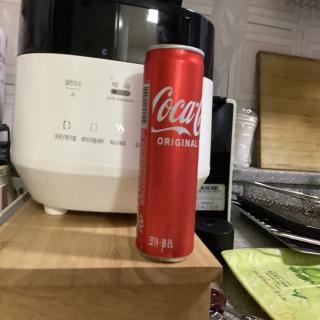cocacola: (133, 40, 204, 266)
